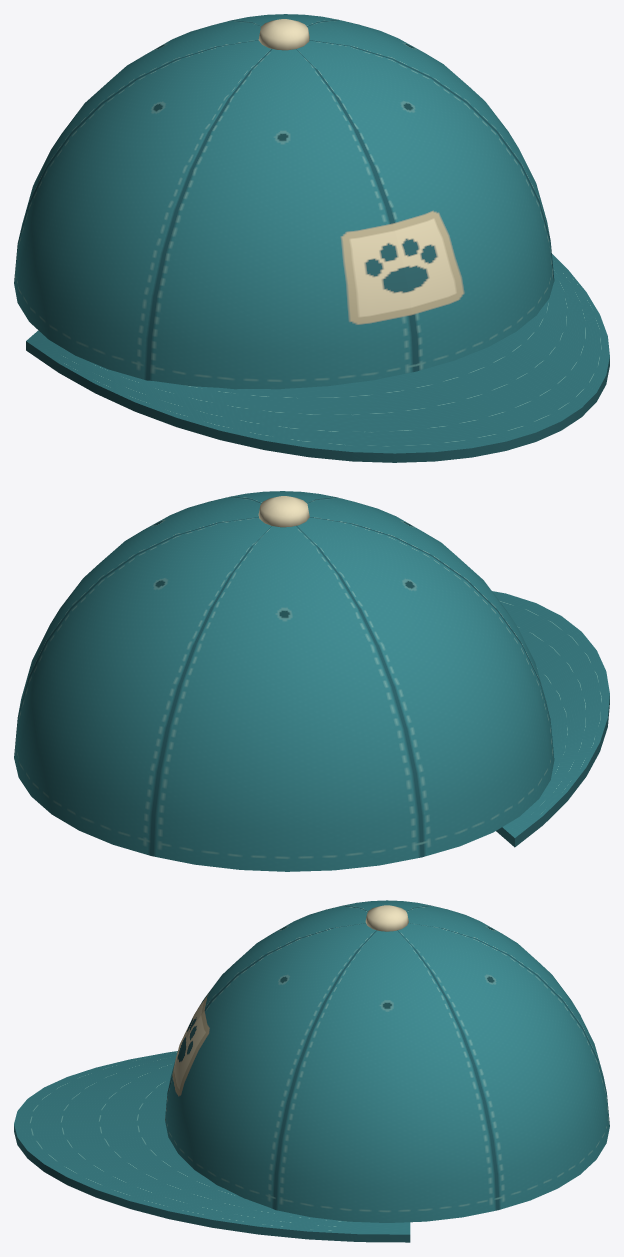
Rendered from KD_Cap_Everyday.fbx.
3 renders of one model, top to bottom at view 1: azimuth 30°, elevation 25°; view 2: azimuth 150°, elevation 25°; view 3: azimuth 270°, elevation 25°, orthographic. The views are drawn at different scales.
Visible parts, largest first — view 1: KD_Cap_Everyday; view 2: KD_Cap_Everyday; view 3: KD_Cap_Everyday.
Part boxes in pixels (x1,y1,x2,y2): KD_Cap_Everyday: (14, 14, 609, 462); KD_Cap_Everyday: (14, 491, 609, 871); KD_Cap_Everyday: (14, 900, 609, 1242).
Size of the model in its own units: 0.164 by 0.0892 by 0.206.
1 material, 1 textured.
